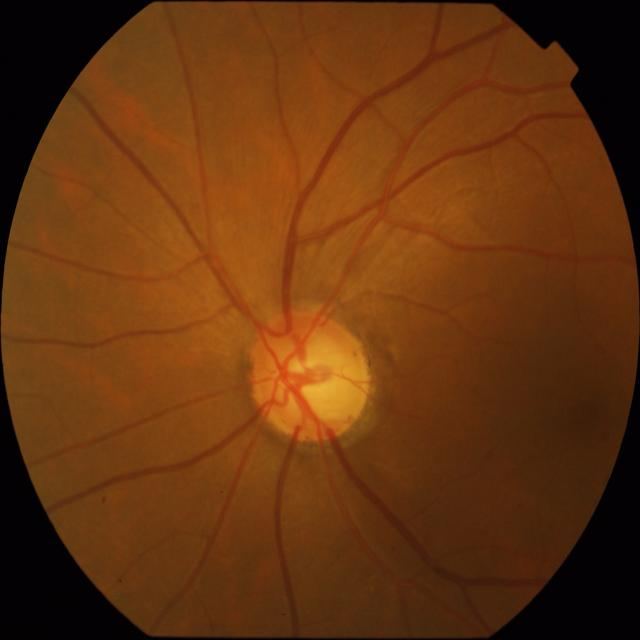OC: (262, 322, 358, 434)
OD: (250, 307, 370, 445)
